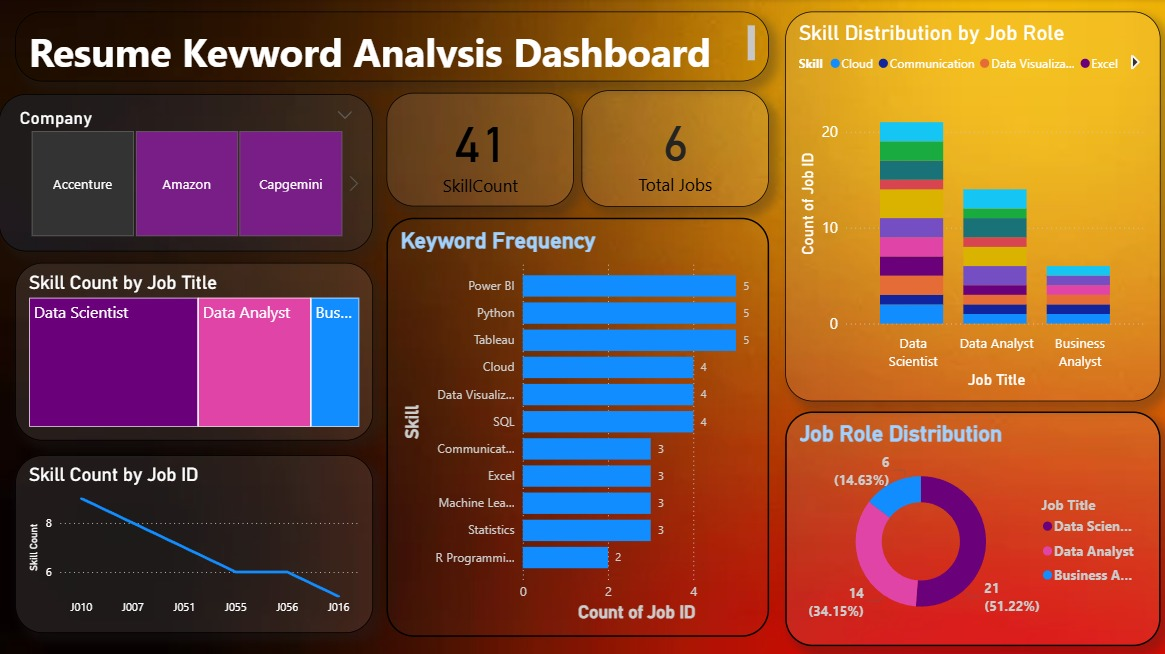

This screenshot's page, from the dashboard's own definition file:
{"tool":"powerbi","page":{"name":"Page 2","canvas":[1280,720],"ordinal":0},"visuals":[{"type":"treemap","title":"Skill Count by Job Title","fields":{"Group":["Sheet1.Job Title"],"Values":["Sheet1.Skill Count"]},"box":[17.8,289.5,392.5,194.9],"z":0},{"type":"lineChart","fields":{"Category":["Sheet1.Job ID"],"Y":["Sheet1.Skill Count"]},"box":[17.8,500.9,392.5,194.9],"z":1000},{"type":"columnChart","title":"Skill Distribution by Job Role","fields":{"Category":["Sheet1.Job Title"],"Series":["Sheet1.Skill"],"Y":["Count(Sheet1.Job ID)"]},"box":[863.1,13.7,411.7,428.1],"z":2000},{"type":"textbox","box":[17.8,13.7,827.4,76.8],"z":4000},{"type":"slicer","fields":{"Values":["Sheet1.Company"]},"box":[0,104.3,410.3,172.9],"z":5000},{"type":"card","fields":{"Values":["Sheet1.SkillCount"]},"box":[425.4,102.9,205.8,124.9],"z":6000},{"type":"card","fields":{"Values":["Sheet1.Total Jobs"]},"box":[639.5,100.2,205.8,127.6],"z":7000},{"type":"donutChart","title":"Job Role Distribution","fields":{"Category":["Sheet1.Job Title"],"Y":["CountNonNull(Sheet1.Job ID)"]},"box":[863.1,452.8,411.7,258],"z":8000},{"type":"barChart","title":"Keyword Frequency","fields":{"Category":["Sheet1.Skill"],"Y":["CountNonNull(Sheet1.Job ID)"]},"box":[425.4,240.1,419.9,459.7],"z":8001}]}

Visuals, with their boxes in screenshot pixels (x1, y1, x2, y2), scaled from the page's 1280x720 canvas onto the 1165x654 screenshot:
"Skill Count by Job Title" treemap: (16, 263, 373, 440)
lineChart - Sheet1.Job ID x Sheet1.Skill Count: (16, 455, 373, 632)
"Skill Distribution by Job Role" columnChart: (786, 12, 1160, 401)
textbox: (16, 12, 769, 82)
slicer - Sheet1.Company: (0, 95, 373, 252)
card - Sheet1.SkillCount: (387, 93, 574, 207)
card - Sheet1.Total Jobs: (582, 91, 769, 207)
"Job Role Distribution" donutChart: (786, 411, 1160, 646)
"Keyword Frequency" barChart: (387, 218, 769, 636)
